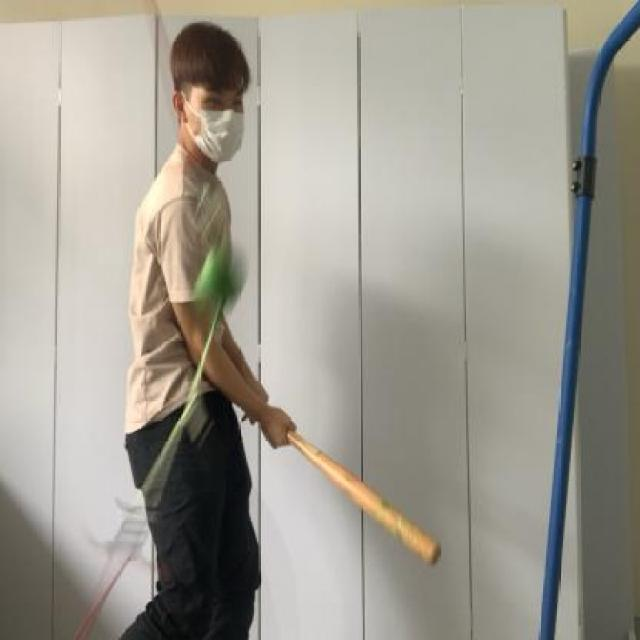baseball: (196, 231, 258, 317)
